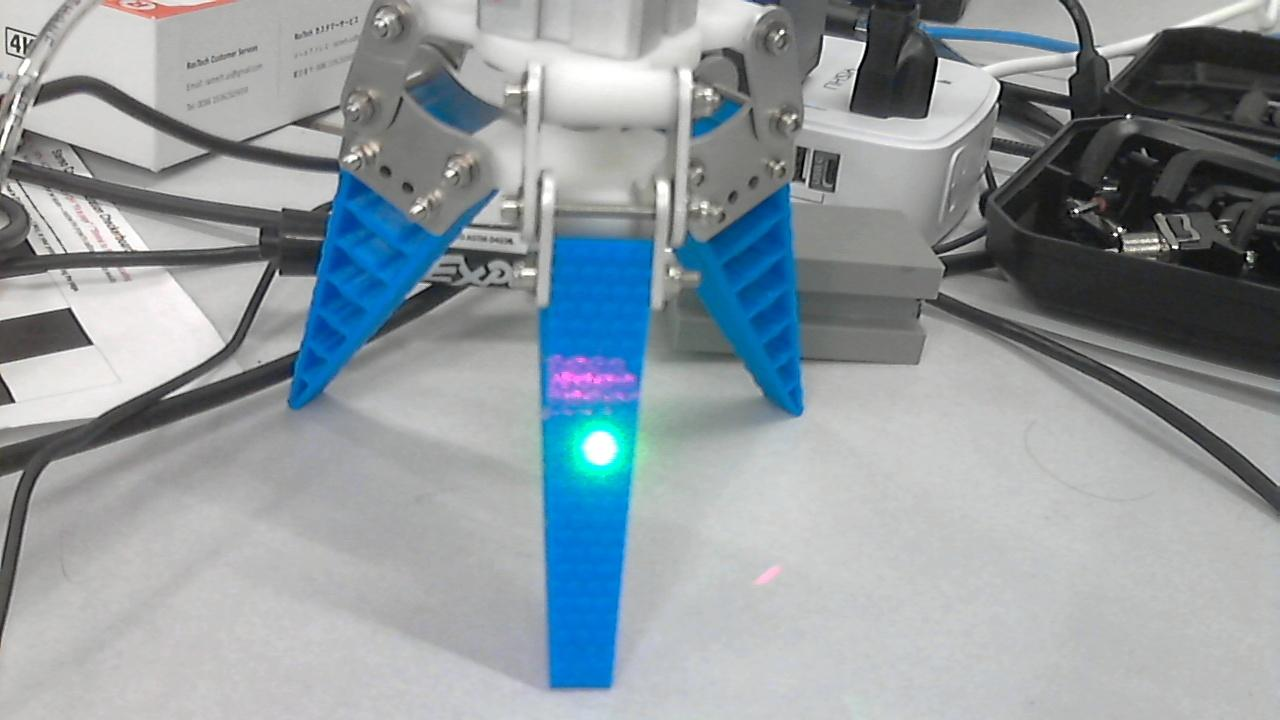Object robotic gripper finger assembly - Material plastic - Color blue - Pdfname: (533, 342, 638, 485)
